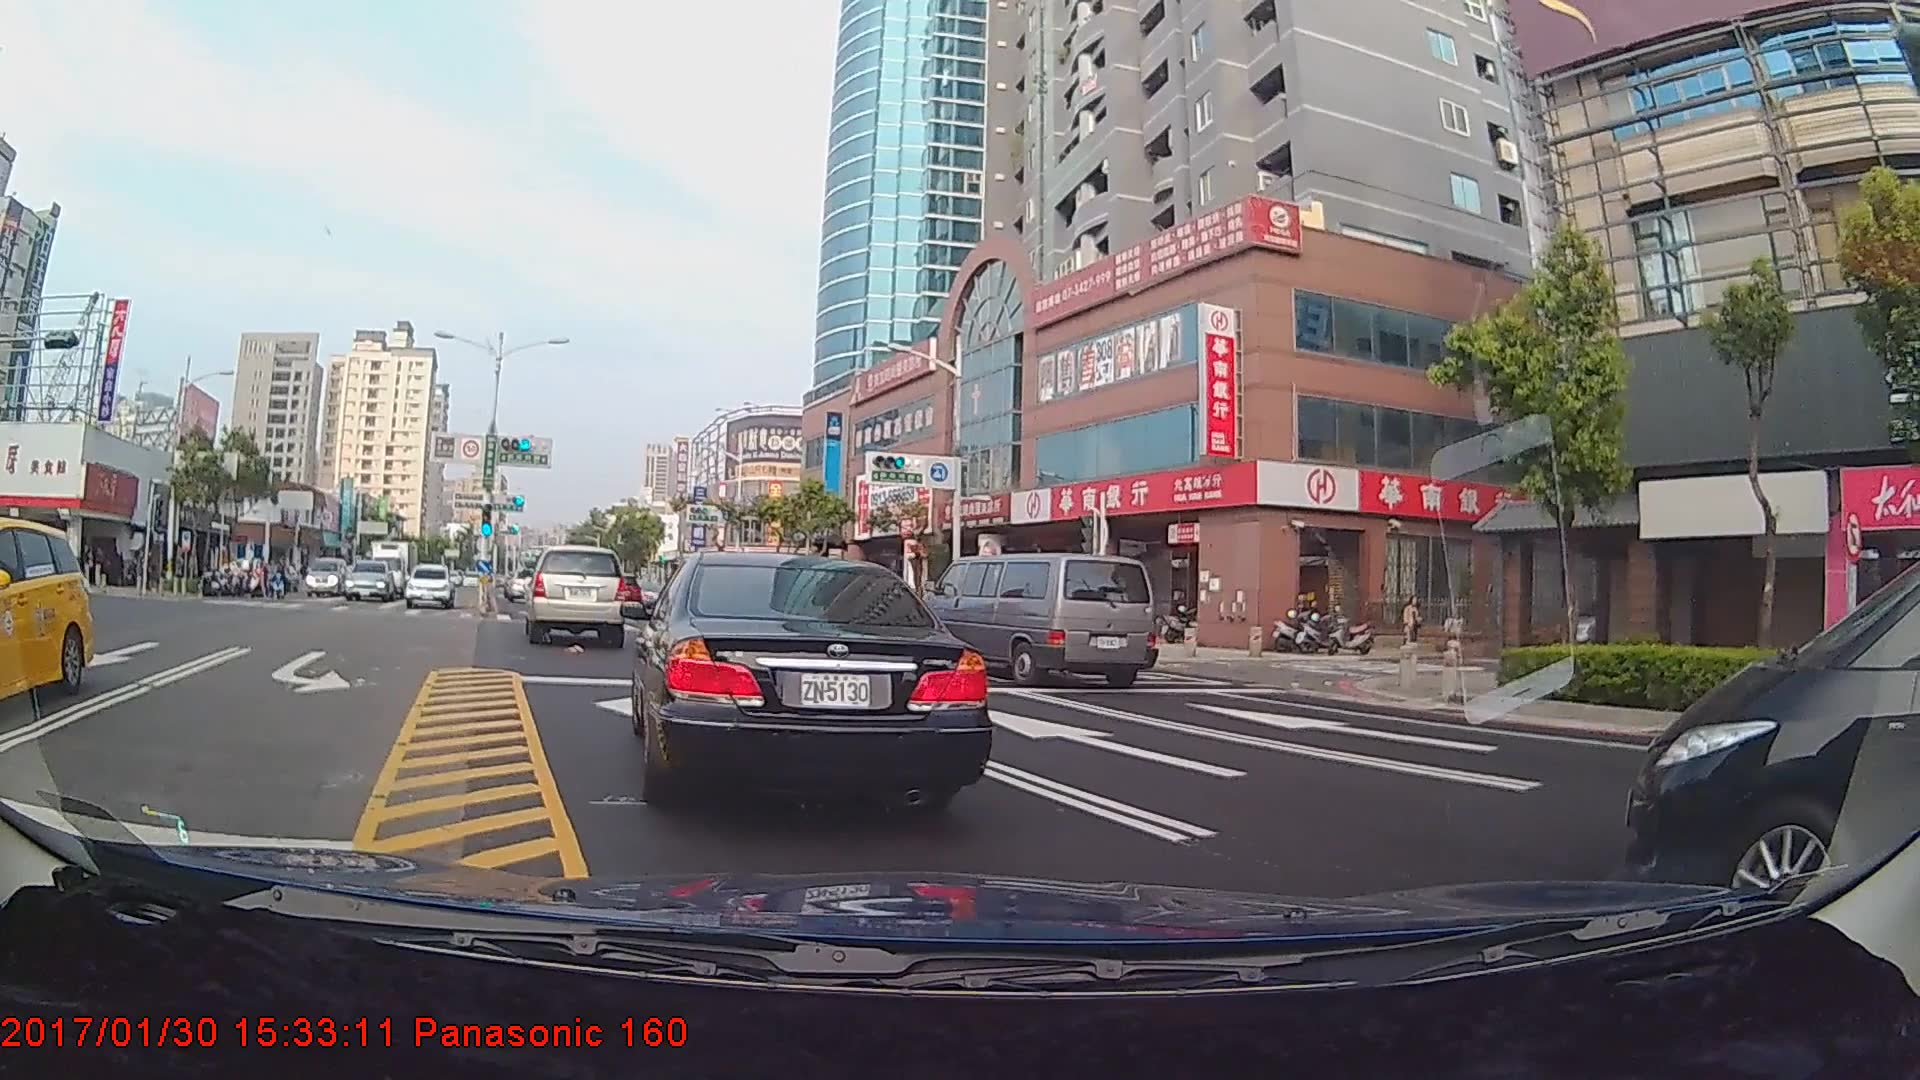pedestrian: (1398, 595, 1424, 660)
vehicle: (1618, 504, 1913, 896), (638, 542, 988, 809), (924, 551, 1152, 689), (0, 516, 92, 714), (524, 546, 626, 643), (365, 535, 420, 594), (345, 558, 396, 603), (406, 563, 454, 609), (304, 554, 347, 595), (502, 565, 540, 601)
